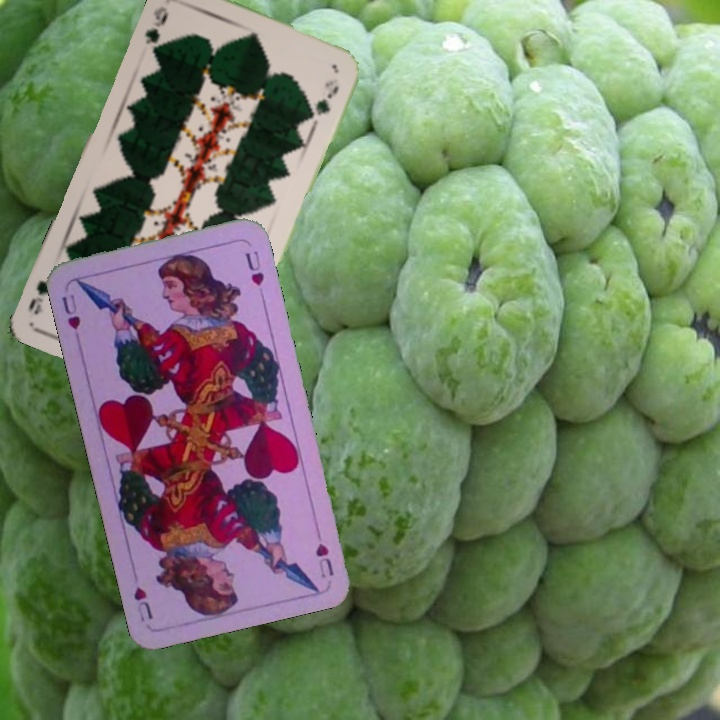G9: (140, 2, 171, 56)
HU: (57, 290, 83, 333), (311, 539, 337, 581)
